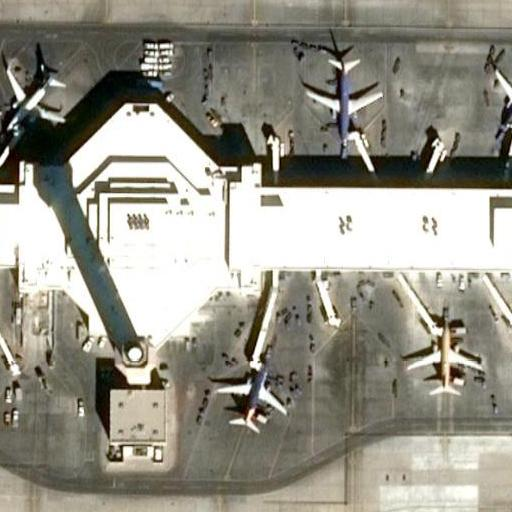Aircraft: (298, 46, 383, 144), (209, 345, 290, 436), (405, 314, 487, 397), (0, 53, 69, 140), (485, 47, 512, 136)
